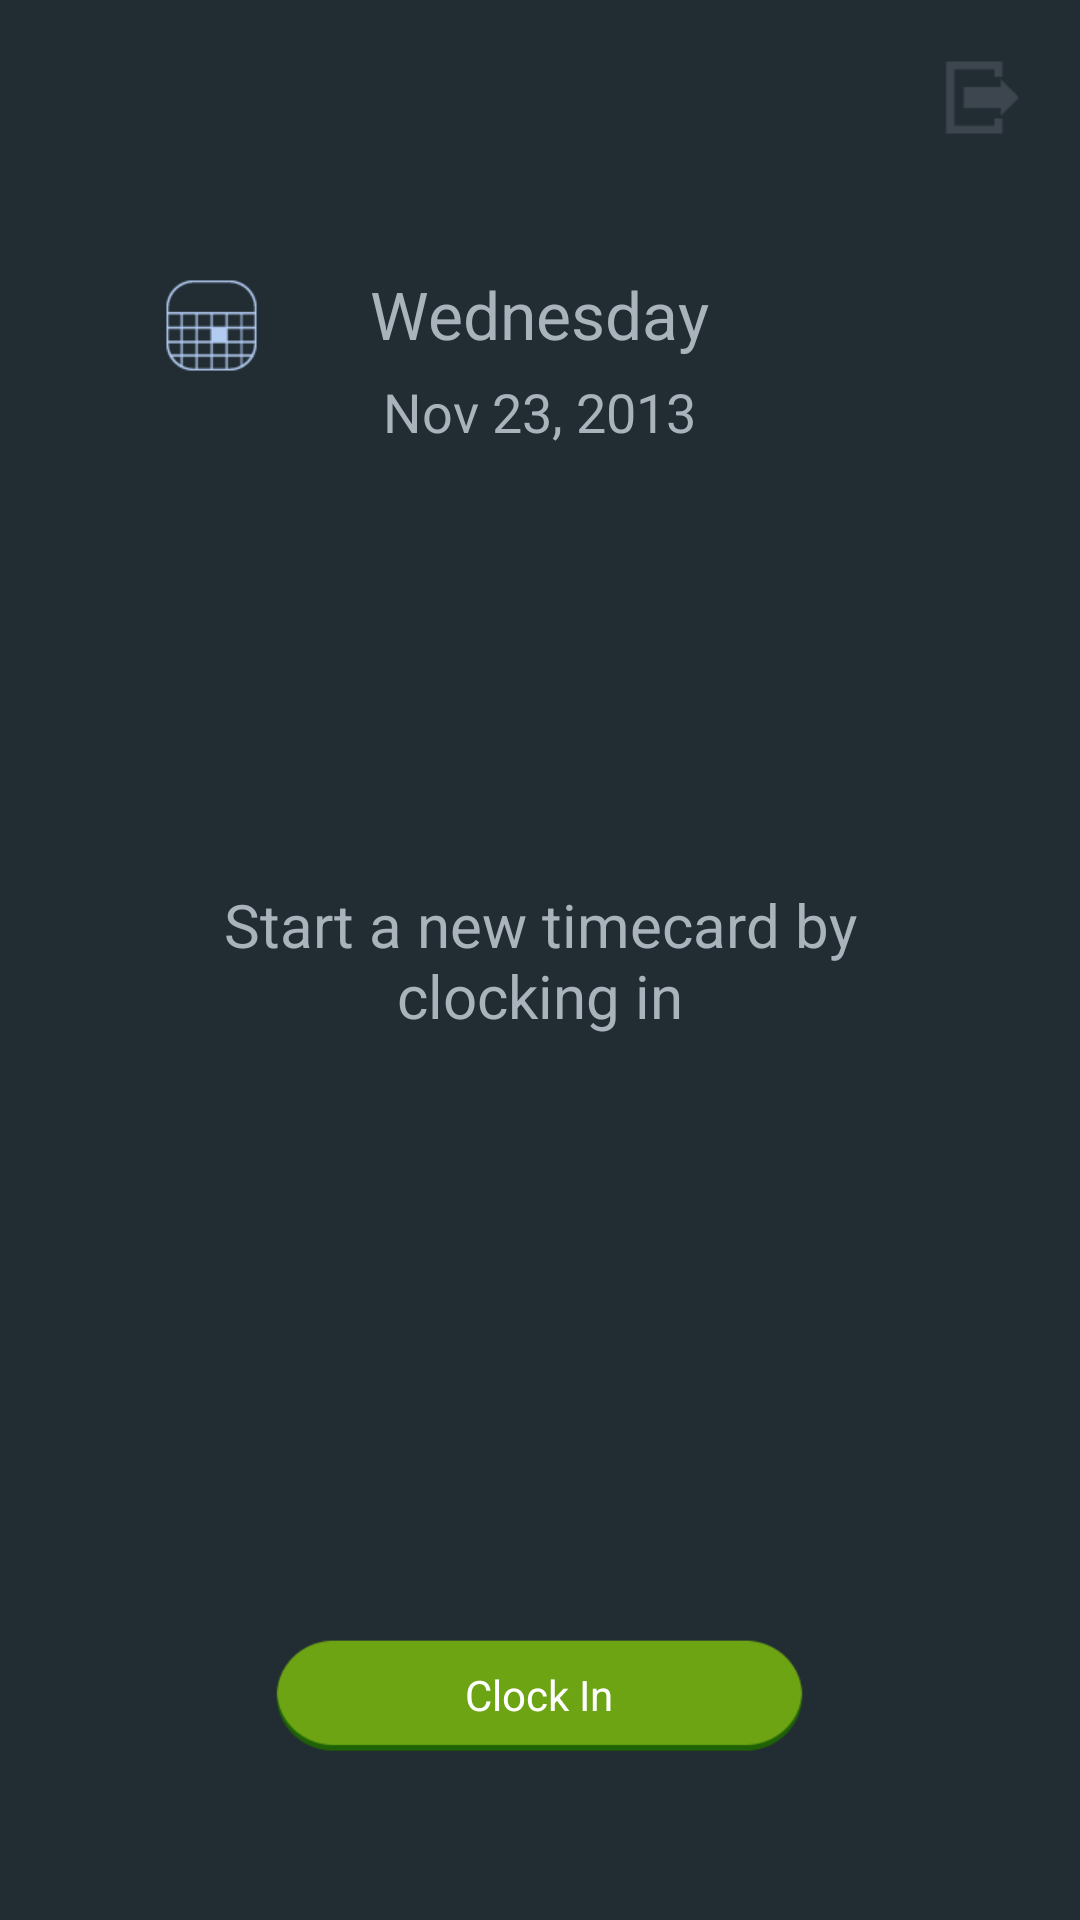

Named icons in this screenshot (1080×1920) and their bounding boxes, BBox(x1, y1, x2, y2):
calendaricon: BBox(166, 280, 257, 371)
